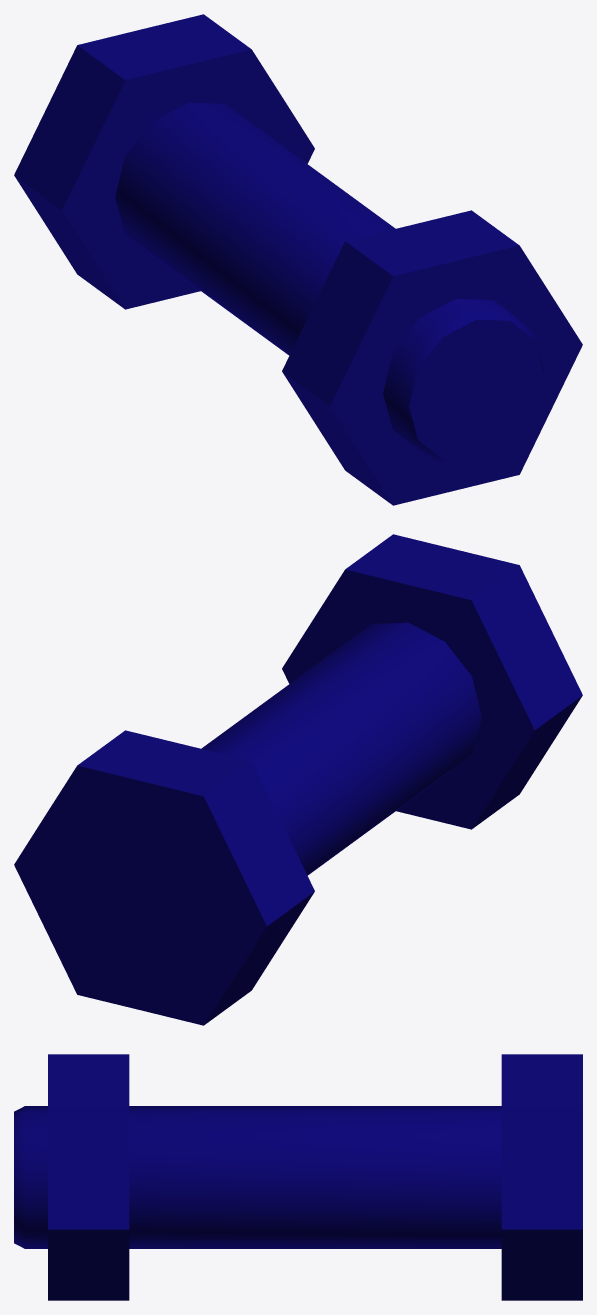
File: sBolt_01.FBX
The picture shows the model from 3 angles, top to bottom: view 1: azimuth 30°, elevation 25°; view 2: azimuth 150°, elevation 25°; view 3: azimuth 270°, elevation 25°; orthographic projection. The views are drawn at different scales.
Visible parts, largest first — view 1: Bolt_01; view 2: Bolt_01; view 3: Bolt_01.
Boxes of the visible parts, box(x1,y1,x2,y2) form: Bolt_01: box(14, 14, 582, 505); Bolt_01: box(14, 534, 582, 1025); Bolt_01: box(14, 1054, 582, 1300).
Size of the model in its own units: 1.1 by 0.9529 by 2.53.
